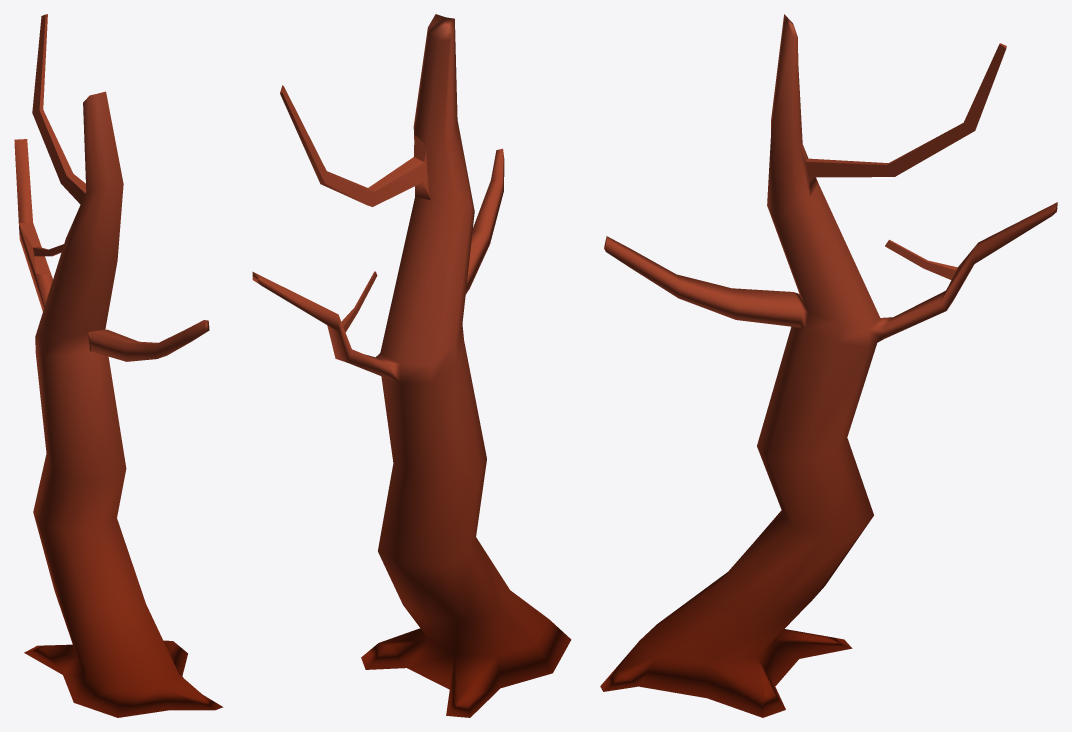
File: eda.fbx
3 renders of one model, left to right at view 1: azimuth 30°, elevation 25°; view 2: azimuth 150°, elevation 25°; view 3: azimuth 270°, elevation 25°, orthographic. The views are drawn at different scales.
Visible parts, largest first — view 1: pCube2; view 2: pCube2; view 3: pCube2.
Boxes of the visible parts, <box> form: pCube2: <box>14,14,223,717</box>; pCube2: <box>252,14,571,717</box>; pCube2: <box>600,14,1057,717</box>.
Bounding box in the file's own units: 4.77 × 18.78 × 11.9.
Materials: 1 (1 with a texture image).
